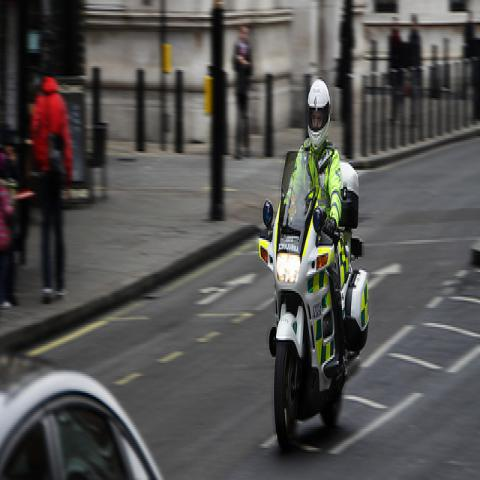car: (1, 351, 162, 479)
motorcycle: (258, 151, 370, 457)
